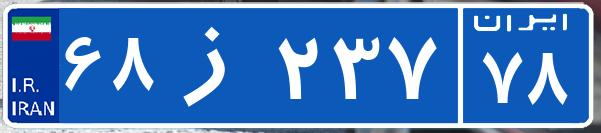2: (273, 28, 330, 110)
3: (330, 28, 385, 110)
6: (57, 26, 110, 107)
7: (385, 28, 445, 110), (475, 38, 525, 113)
8: (110, 28, 158, 105), (525, 38, 570, 115)
ز: (158, 15, 273, 115)
